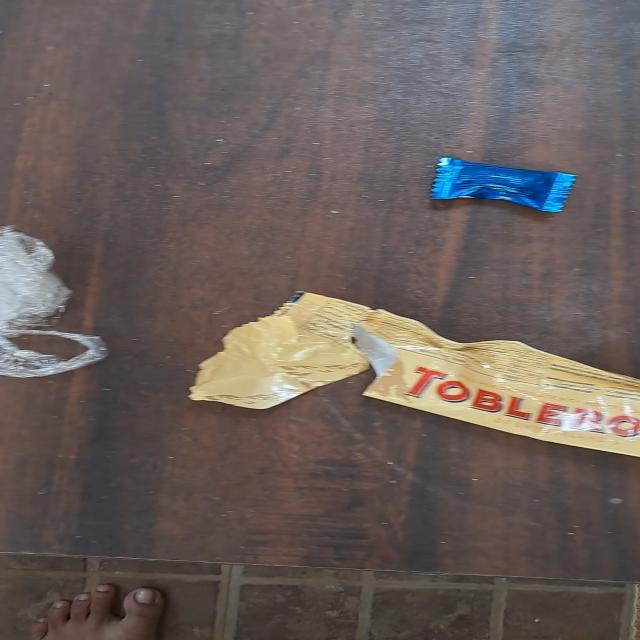Anorganik: (190, 294, 640, 459), (0, 222, 108, 380), (424, 150, 578, 218)
